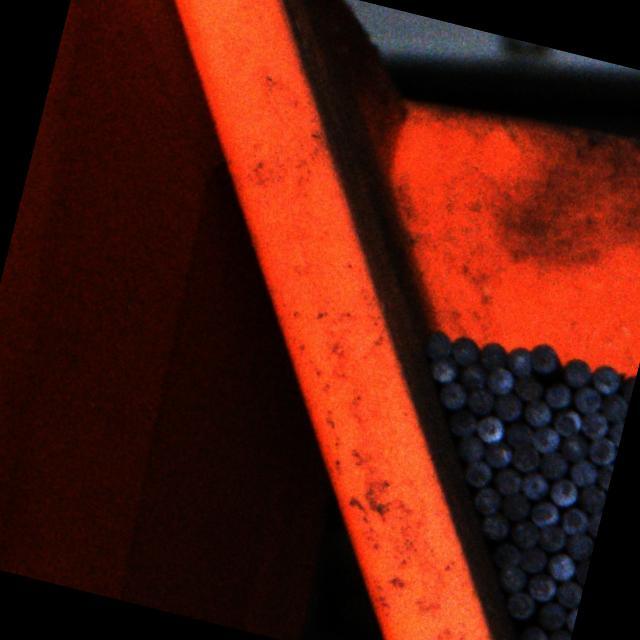tool: (418, 326, 454, 362), (559, 354, 595, 390), (526, 340, 560, 376), (447, 334, 482, 368), (489, 389, 524, 423), (549, 405, 583, 439), (546, 474, 580, 508), (584, 432, 617, 467), (506, 516, 541, 549), (476, 339, 509, 373), (589, 362, 622, 396), (520, 396, 554, 429), (575, 481, 608, 515), (504, 344, 536, 379), (483, 363, 516, 396), (470, 483, 503, 516), (478, 509, 511, 542), (436, 378, 468, 412), (528, 422, 562, 454), (516, 469, 550, 501), (497, 490, 531, 522), (556, 504, 590, 536), (426, 351, 458, 384), (455, 360, 488, 392), (596, 391, 628, 424), (463, 384, 495, 417), (578, 408, 610, 441), (502, 418, 534, 451), (508, 442, 541, 474), (489, 540, 522, 572), (536, 448, 568, 481), (563, 529, 595, 562), (502, 589, 536, 620), (570, 384, 602, 416), (472, 412, 504, 444), (558, 431, 590, 463), (454, 432, 486, 464), (481, 438, 513, 470), (460, 457, 492, 489), (494, 562, 526, 594), (566, 456, 598, 488), (490, 464, 522, 496), (544, 550, 576, 582), (526, 571, 558, 603), (534, 600, 566, 632), (552, 578, 584, 610), (510, 371, 543, 402), (528, 498, 560, 529), (446, 407, 477, 438), (541, 380, 572, 410), (536, 522, 566, 553), (515, 546, 546, 576), (604, 418, 624, 447), (594, 462, 614, 491), (618, 372, 636, 402), (519, 623, 548, 640), (585, 508, 602, 536), (544, 627, 571, 640)
